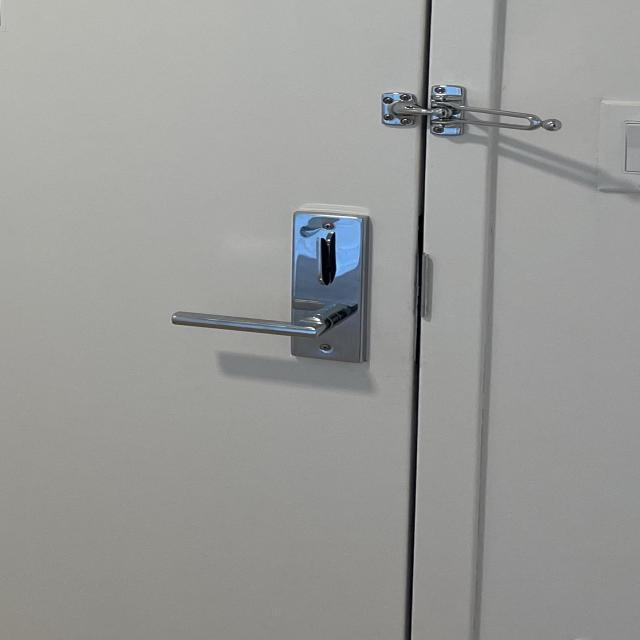door_handle: (145, 291, 379, 353)
